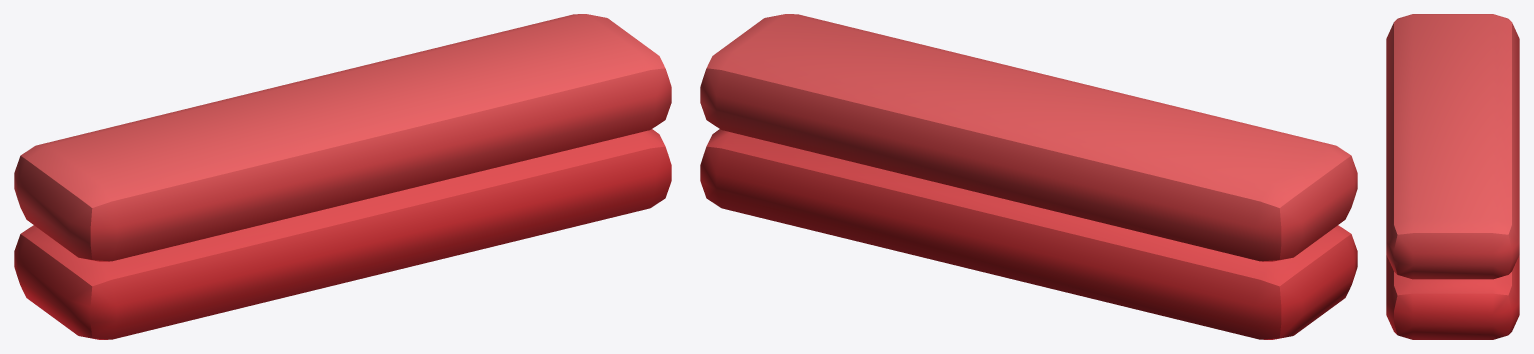
The model's file is barrier_4x1x1_red.glb.
3 renders of one model, left to right at view 1: azimuth 30°, elevation 25°; view 2: azimuth 150°, elevation 25°; view 3: azimuth 270°, elevation 25°, orthographic. The views are drawn at different scales.
Parts seen in each view (by area): view 1: barrier_4x1x1_red; view 2: barrier_4x1x1_red; view 3: barrier_4x1x1_red.
Part boxes in pixels (x1,y1,x2,y2): barrier_4x1x1_red: (14,14,671,339); barrier_4x1x1_red: (700,14,1357,339); barrier_4x1x1_red: (1386,14,1519,339).
Size of the model in its own units: 4 by 1 by 1.
Materials: 1 (1 with a texture image).
